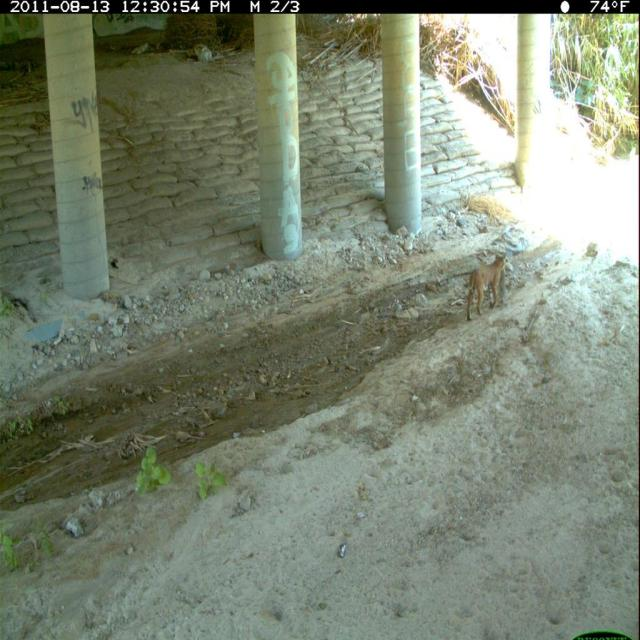bobcat: (463, 251, 509, 326)
rabbit: (496, 263, 510, 308)
